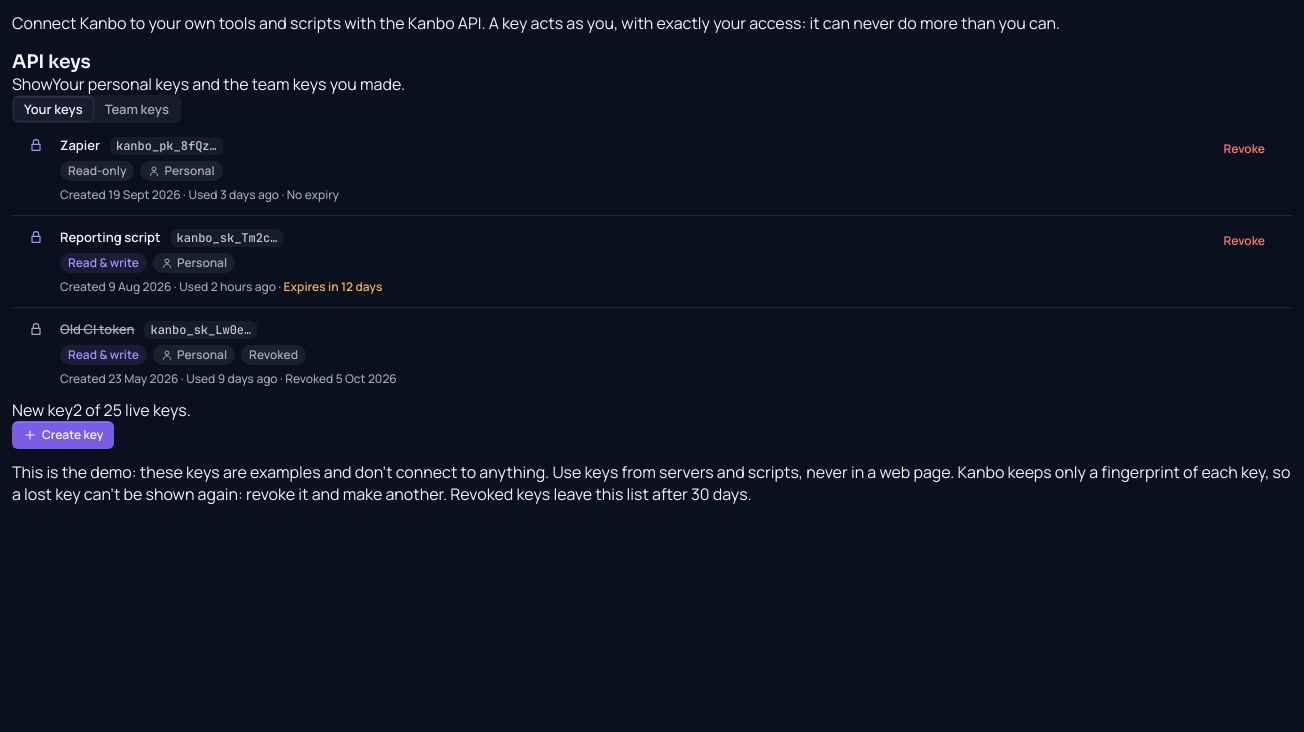
Scenario: DevelopersPanel (demo) › team keys only for workspaces you own or administer
The image size is (1304, 732).
Click the button "Create key" at x=63, y=435, box [12,421,114,449]
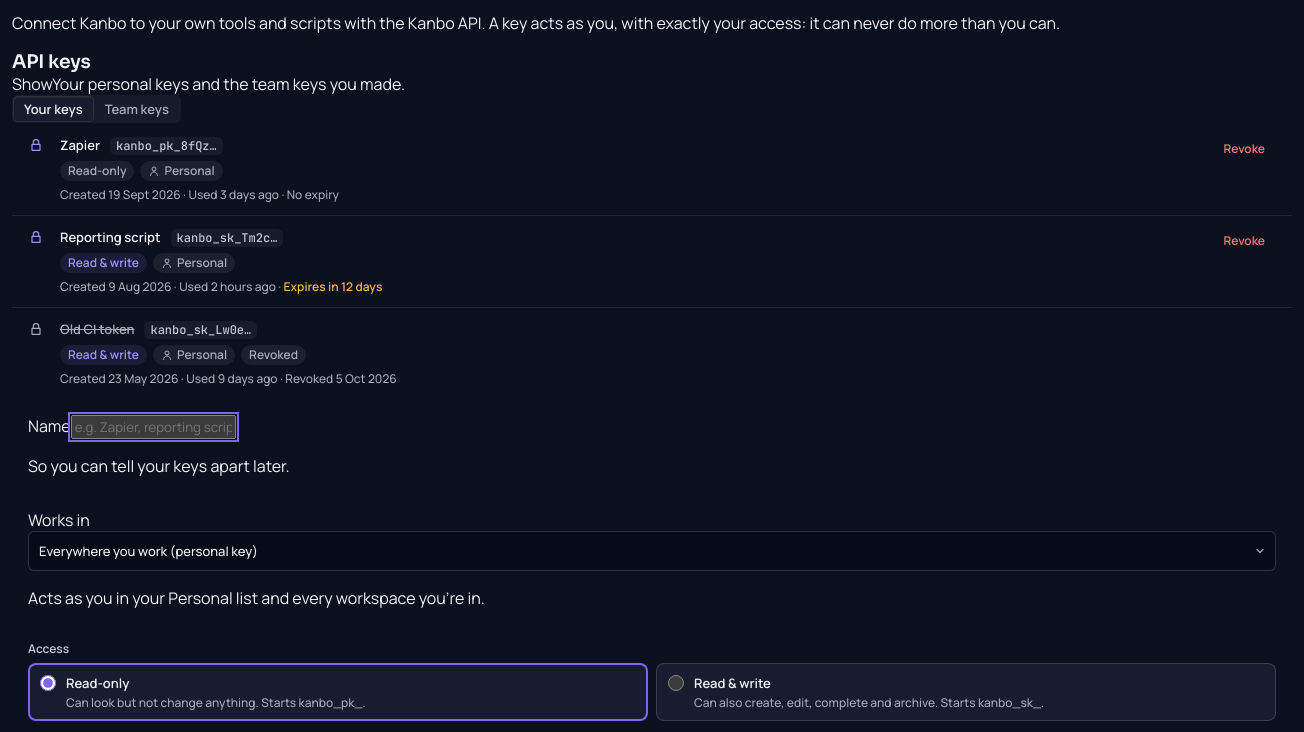
Result: the dropdown labelled "Works in" shows "Everywhere you work (personal key)"
Select "Only Foundrise (team key)" in the dropdown labelled "Works in" at x=652, y=551, box [28,531,1276,571]
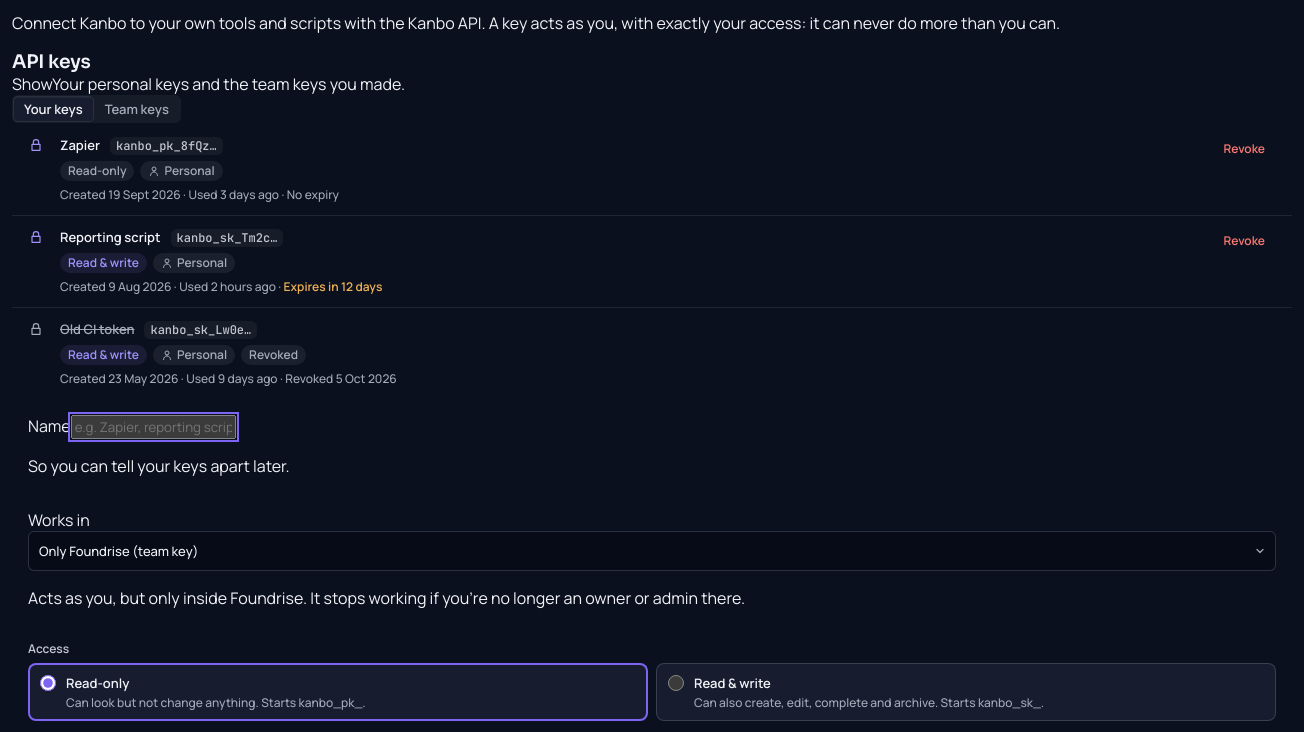
Result: the text "only inside Foundrise" is shown at [28,587,745,609]
